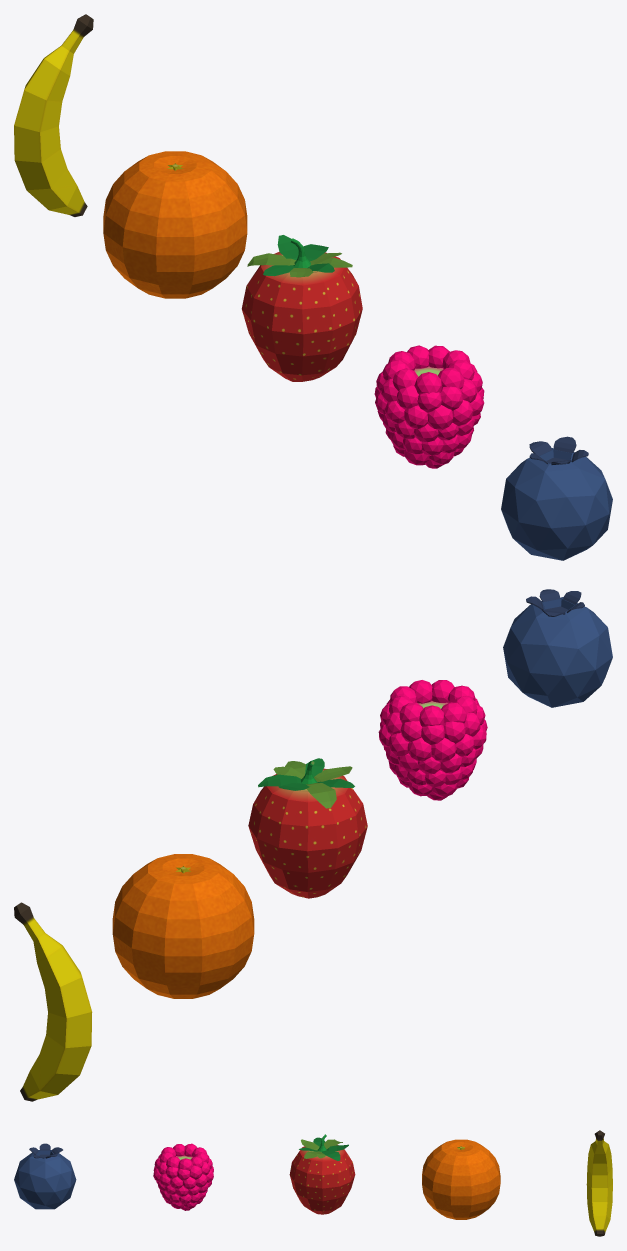
Rendered from fruits.fbx.
3 views of the same model, one above another, from view 1: azimuth 30°, elevation 25°; view 2: azimuth 150°, elevation 25°; view 3: azimuth 270°, elevation 25° (orthographic). The views are drawn at different scales.
Visible parts, largest first — view 1: orange, strawberry, raspberry, blueberry, bannana; view 2: orange, strawberry, raspberry, blueberry, bannana; view 3: orange, strawberry, raspberry, blueberry, bannana.
Boxes of the visible parts, box(x1,y1,x2,y2) form: orange: box(103, 151, 247, 298); strawberry: box(241, 235, 362, 381); raspberry: box(374, 345, 484, 468); blueberry: box(501, 436, 612, 560); bannana: box(14, 14, 93, 216); orange: box(112, 854, 254, 998); strawberry: box(248, 758, 367, 898); raspberry: box(378, 680, 487, 800); blueberry: box(503, 589, 612, 707); bannana: box(14, 902, 92, 1101); orange: box(422, 1139, 500, 1219); strawberry: box(289, 1134, 355, 1214); raspberry: box(153, 1143, 213, 1210); blueberry: box(14, 1143, 76, 1209); bannana: box(586, 1130, 612, 1236).
Size of the model in its own units: 113 by 174 by 864.
